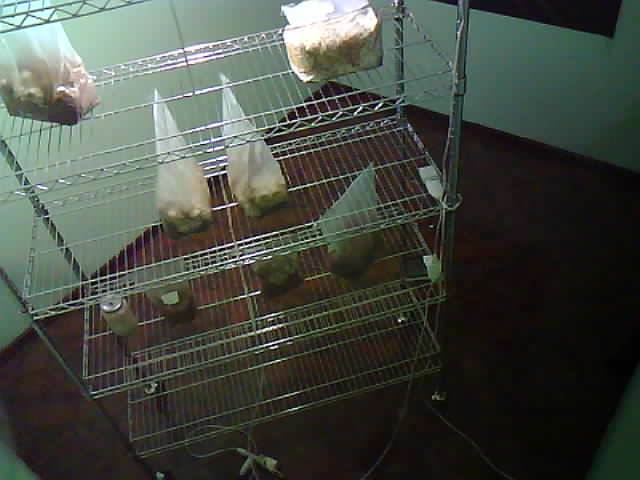bloco: (5, 3, 116, 128), (268, 6, 405, 91), (129, 100, 211, 237), (323, 173, 391, 286), (227, 83, 273, 217), (243, 223, 311, 304), (146, 247, 202, 339)
